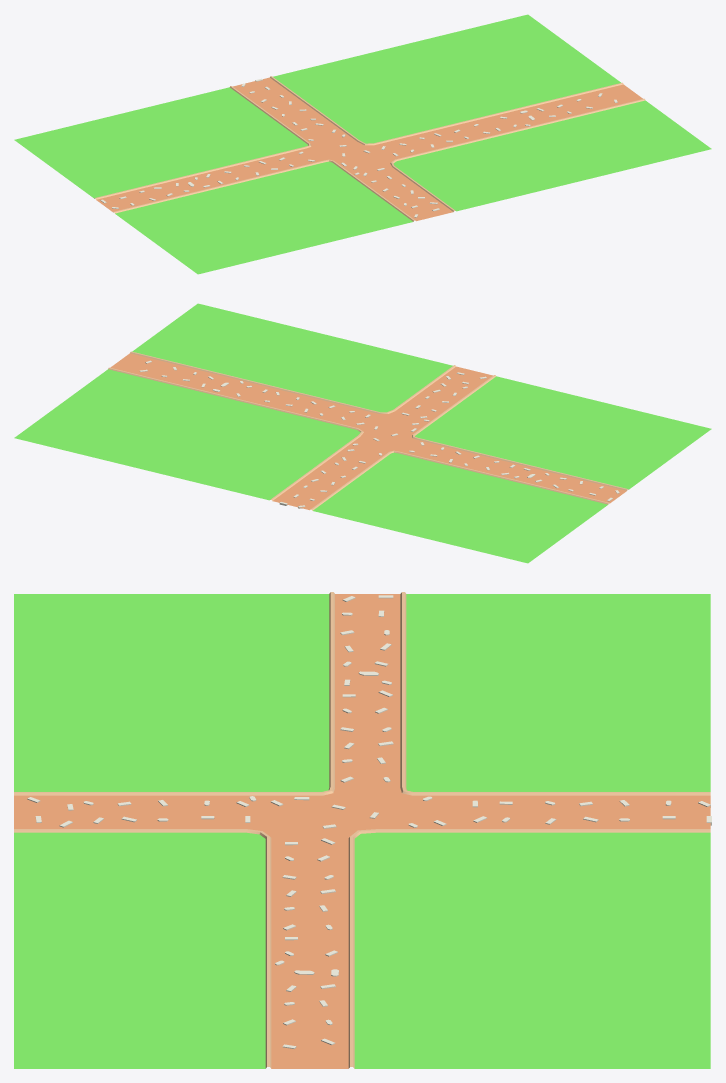
File: Park.fbx
3 renders of one model, top to bottom at view 1: azimuth 30°, elevation 25°; view 2: azimuth 150°, elevation 25°; view 3: azimuth 270°, elevation 25°, orthographic. The views are drawn at different scales.
Parts seen in each view (by area): view 1: Park; view 2: Park; view 3: Park.
Part boxes in pixels (x1,y1,x2,y2): Park: [14, 14, 711, 274]; Park: [14, 303, 711, 563]; Park: [14, 592, 711, 1068].
Bounding box in the file's own units: 3947 × 16.37 × 2451.
